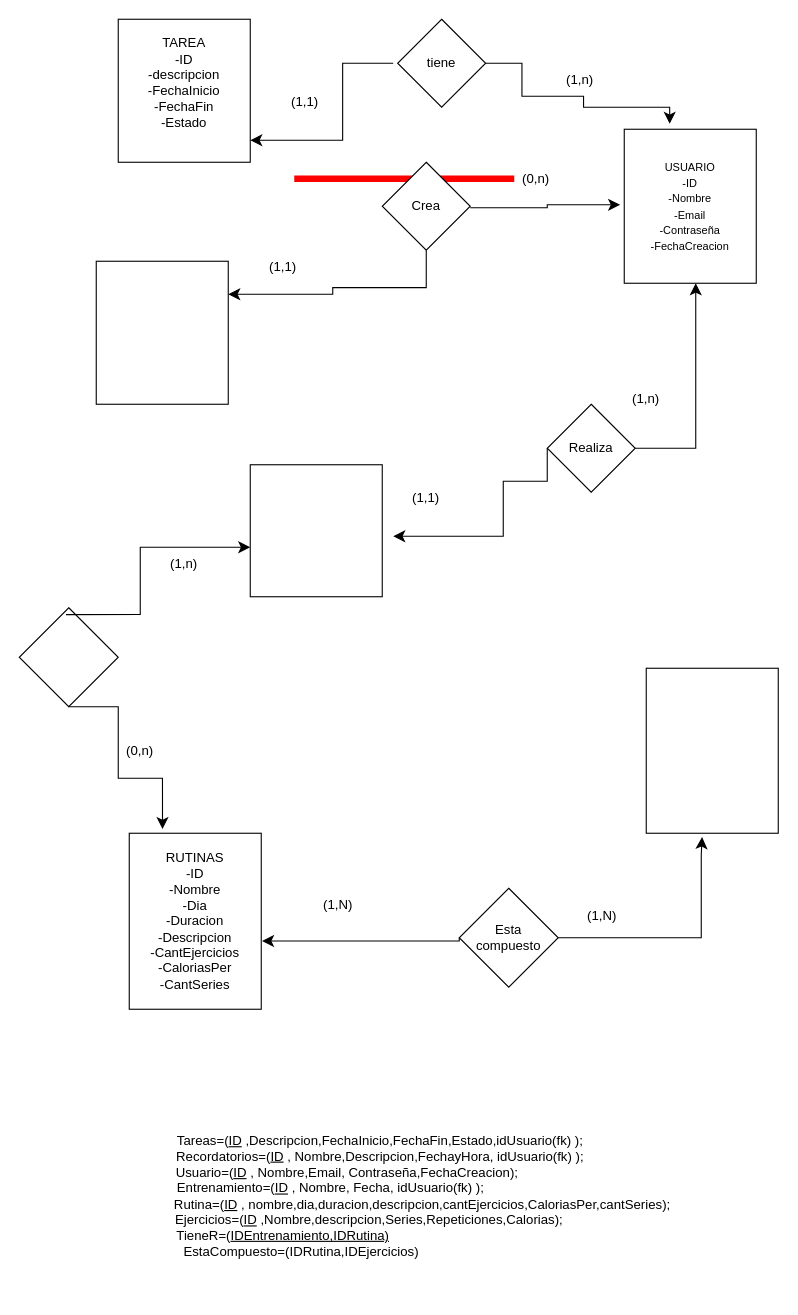
Image size: 798x1315. Some labels were removed from this diagram. Each missing label, with the centre of its shape:
EJERCICIOS -ID -nombre -Descripcion -Series -Repeticiones -Calorias: (711,750)
ENTRENAMIENTO -ID -Nombre -Fecha: (315,530)
RECORDATORIO -ID -Nombre -Descripcion -FechayHora: (161,332)
TieneR: (68,657)
